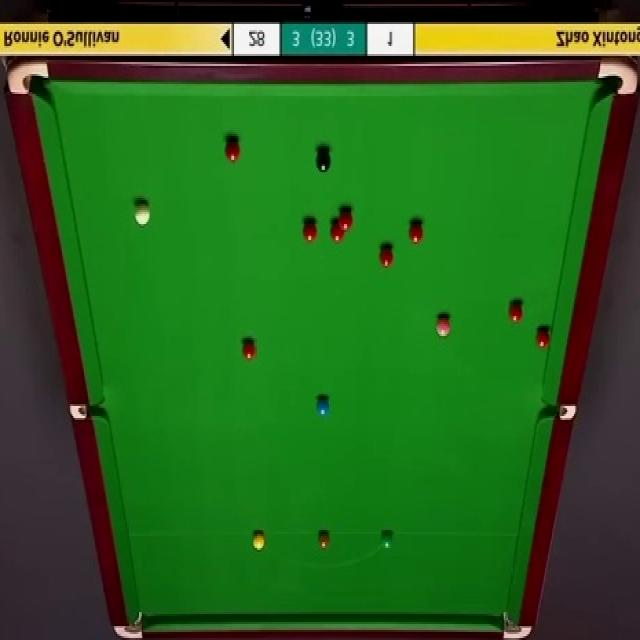pocket: (6, 60, 50, 98), (595, 60, 636, 97), (500, 608, 534, 640), (113, 612, 143, 640), (68, 403, 107, 423), (541, 403, 575, 422)
